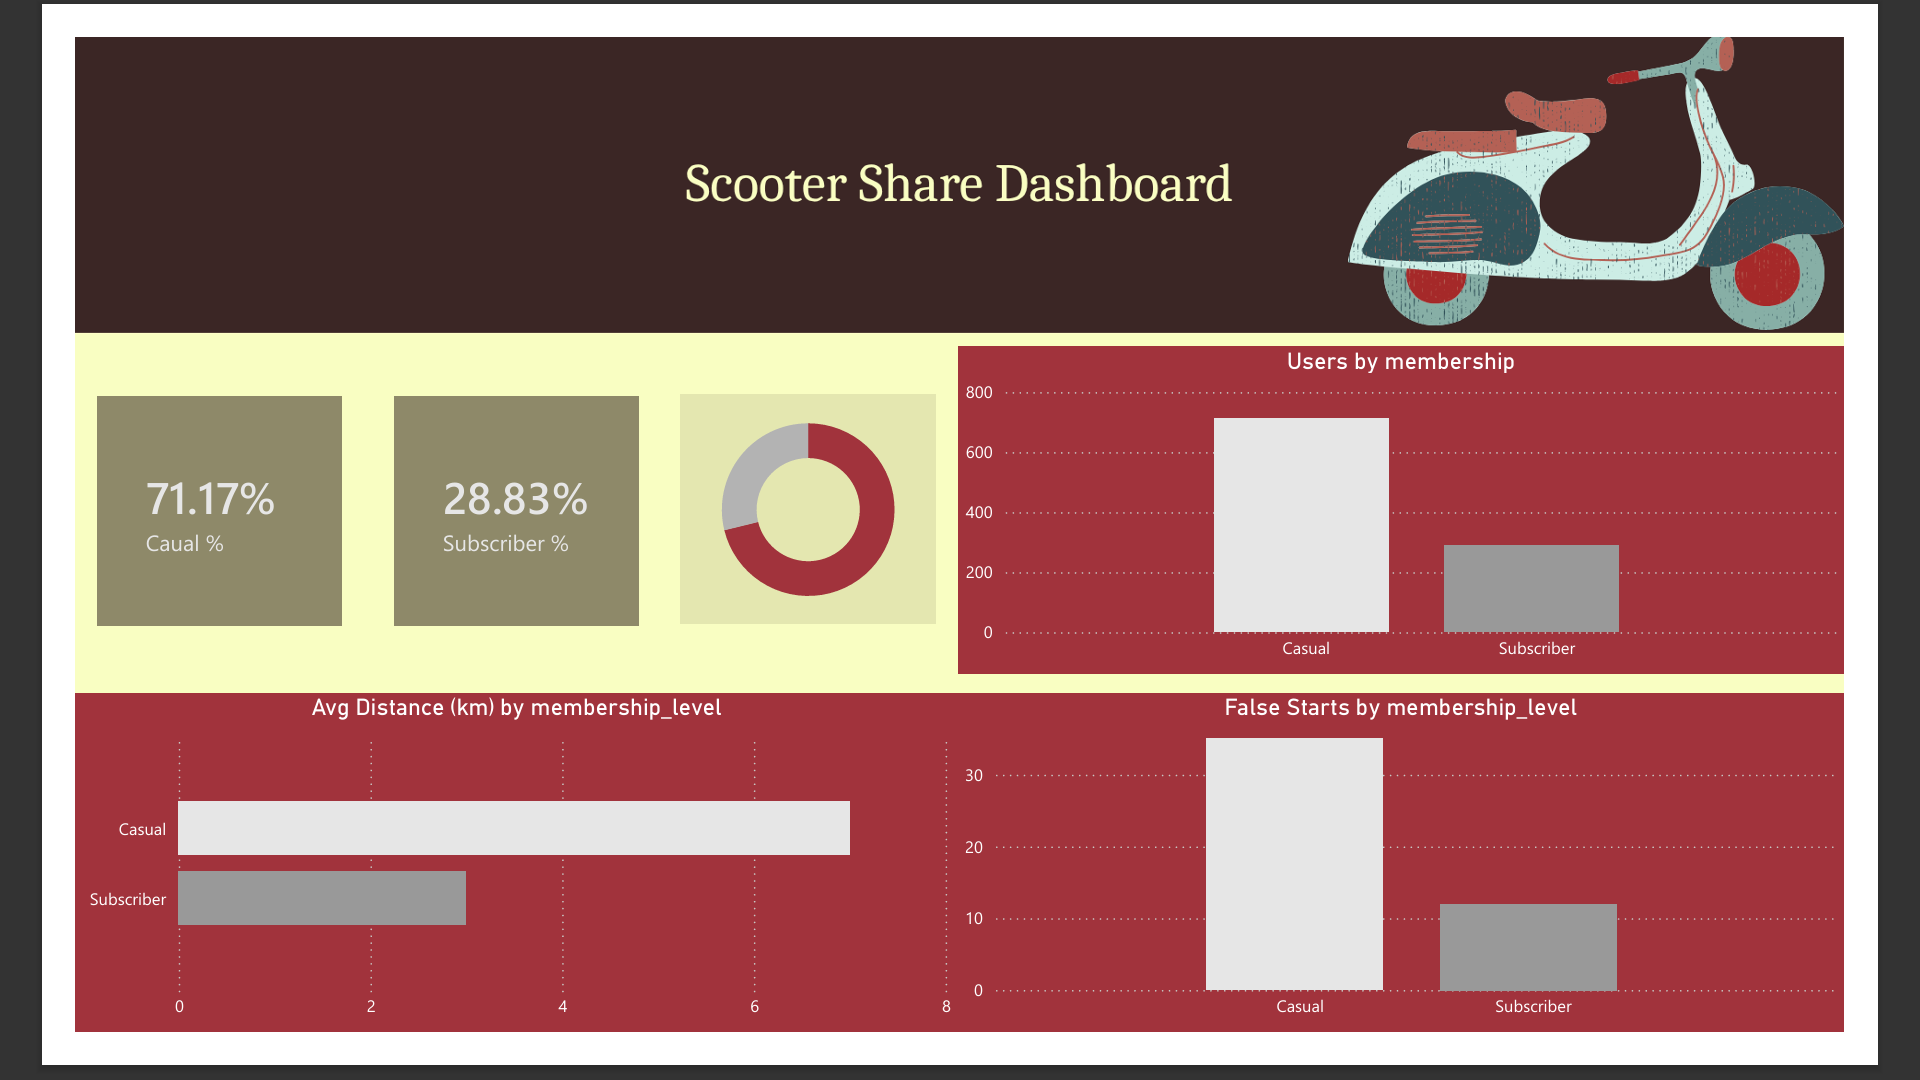

What the dashboard file says about the page in this screenshot:
{"tool":"powerbi","page":{"name":"Membership Analysis","canvas":[1280,720],"ordinal":3},"visuals":[{"type":"clusteredBarChart","fields":{"Category":["users.membership_level"],"Y":["rides measurements.Avg Distance (km)"]},"box":[0,474.8,639.5,245.6],"z":0},{"type":"columnChart","fields":{"Category":["users.membership_level"],"Y":["rides measurements.False Starts"]},"box":[639.5,474.8,640.8,245.6],"z":1000},{"type":"lineStackedColumnComboChart","title":"Users by membership","fields":{"Category":["users.membership_level"],"Y":["user measurements.New Users"]},"box":[802.7,237.4,477.5,237.4],"z":2000},{"type":"cardVisual","fields":{"Data":["user measurements.Casual Users"]},"box":[220.9,259.3,177,166],"z":3000},{"type":"cardVisual","fields":{"Data":["user measurements.Casual Users"]},"box":[28.8,260.7,177,166],"z":4000},{"type":"cardVisual","fields":{"Data":["user measurements.Caual %"]},"box":[408.9,259.3,177,166],"z":5000},{"type":"cardVisual","fields":{"Data":["user measurements.Subscriber %"]},"box":[596.9,259.3,177,166],"z":6000}]}

Visuals, with their boxes in screenshot pixels (x1, y1, x2, y2), scaled from the page's 1280x720 canvas onto the 1920x1080 screenshot:
clusteredBarChart - users.membership_level x rides measurements.Avg Distance (km): {"x1": 0, "y1": 712, "x2": 959, "y2": 1079}
columnChart - users.membership_level x rides measurements.False Starts: {"x1": 959, "y1": 712, "x2": 1919, "y2": 1079}
"Users by membership" lineStackedColumnComboChart: {"x1": 1204, "y1": 356, "x2": 1919, "y2": 712}
cardVisual - user measurements.Casual Users: {"x1": 331, "y1": 389, "x2": 597, "y2": 638}
cardVisual - user measurements.Casual Users: {"x1": 43, "y1": 391, "x2": 309, "y2": 640}
cardVisual - user measurements.Caual %: {"x1": 613, "y1": 389, "x2": 879, "y2": 638}
cardVisual - user measurements.Subscriber %: {"x1": 895, "y1": 389, "x2": 1161, "y2": 638}
